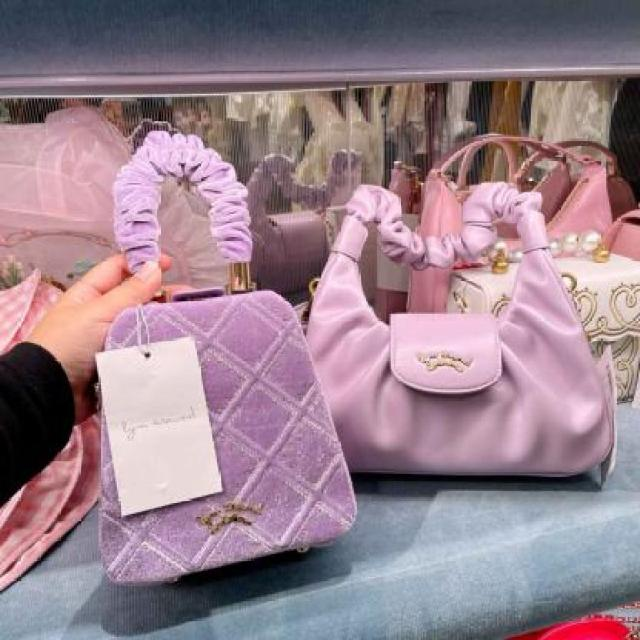Bag: (67, 132, 382, 628), (291, 156, 624, 502)
